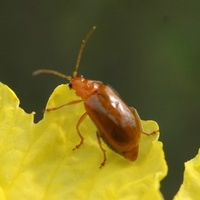insect: (33, 26, 143, 167)
